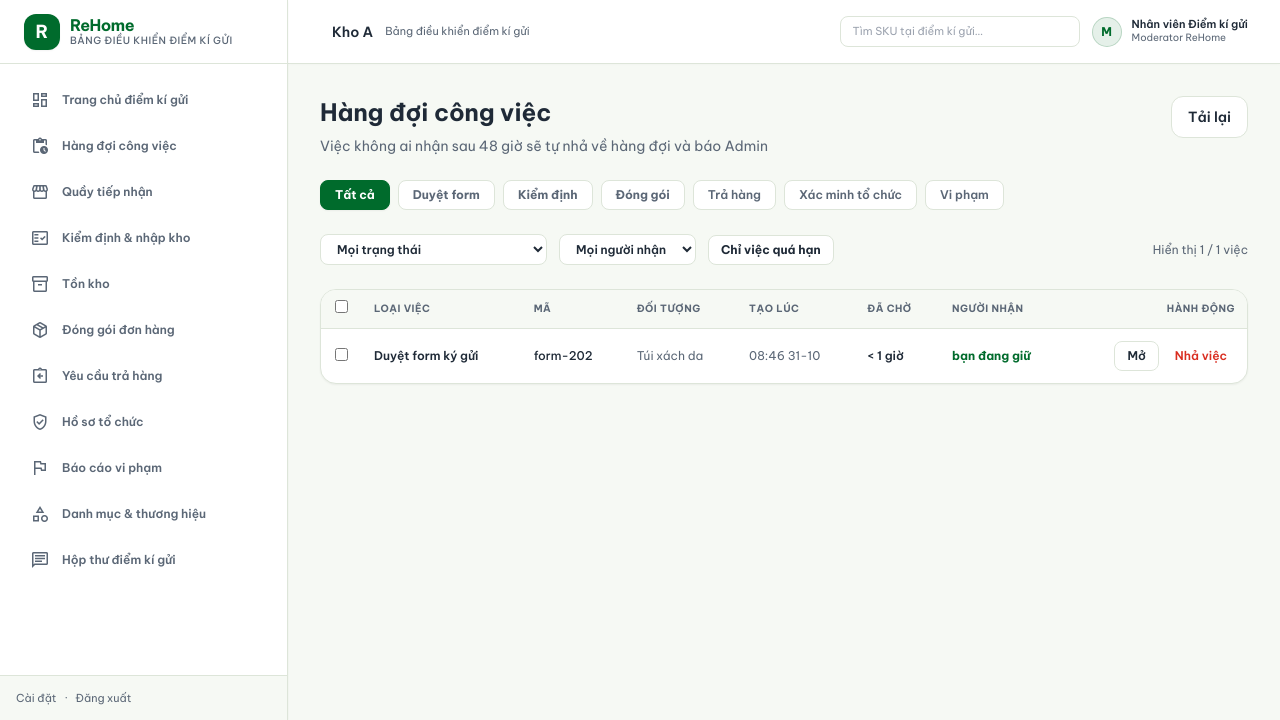
it: ConsignmentQueuePage component behaviors › opens release modal and releases task successfully
The image size is (1280, 720).
Expected: the text "Túi xách da" is shown, [625,328,737,383]
Step 1. Click the button "Nhả việc" → point(1201, 356), box [1167,344,1235,368]
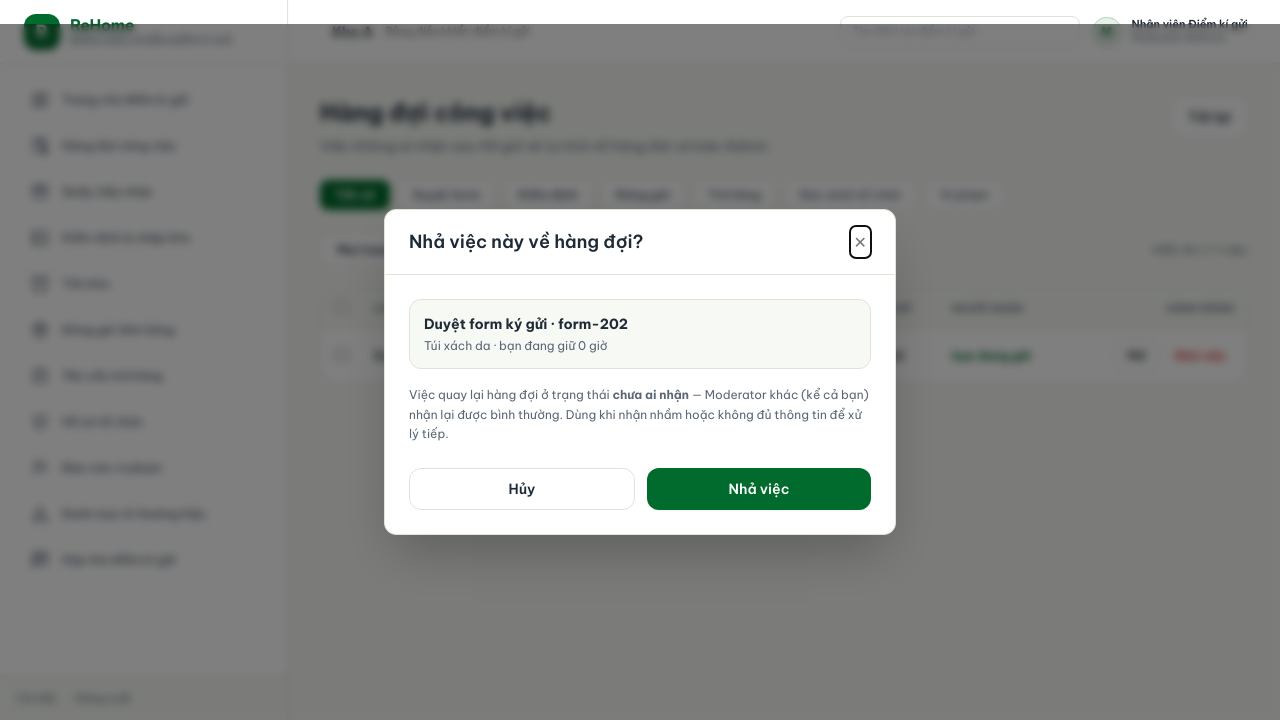
Now the heading "Nhả việc này về hàng đợi?" is shown, box [409,228,644,256]
Step 2. Click the button "Nhả việc" → point(759, 489), box [647,468,871,510]
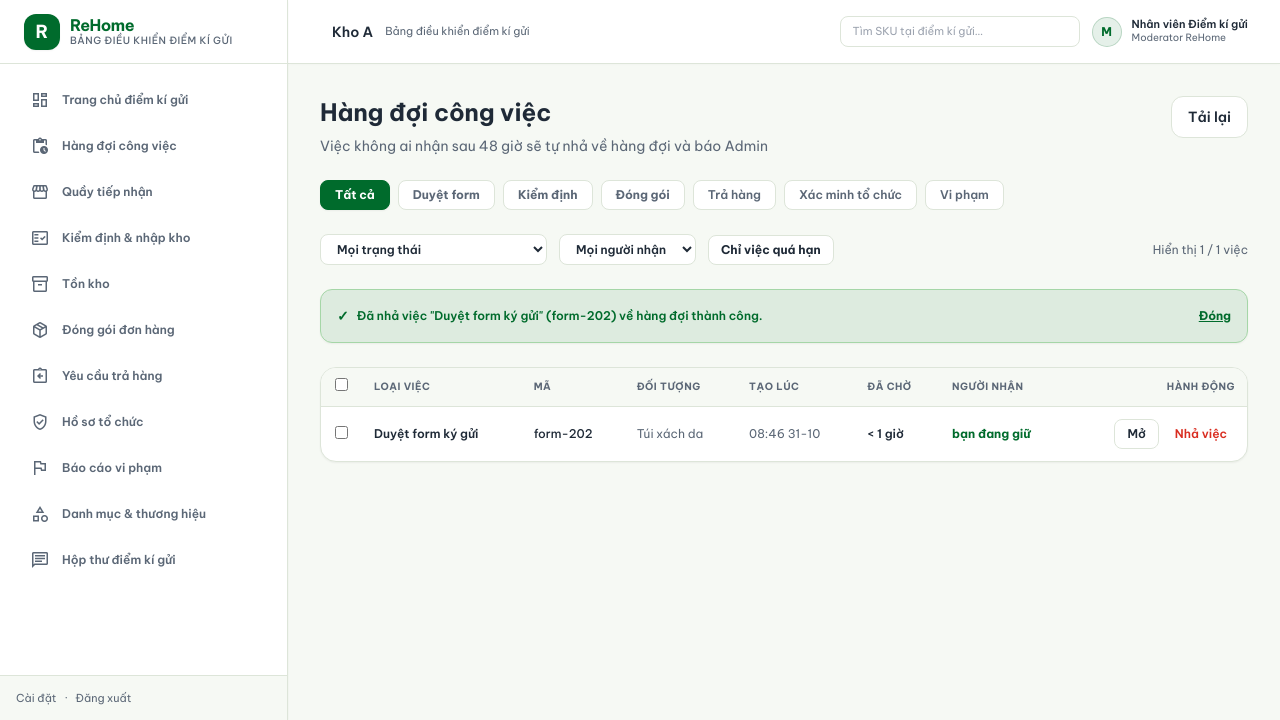
Now the text "Đã nhả việc" is shown, box [357,308,763,323]
